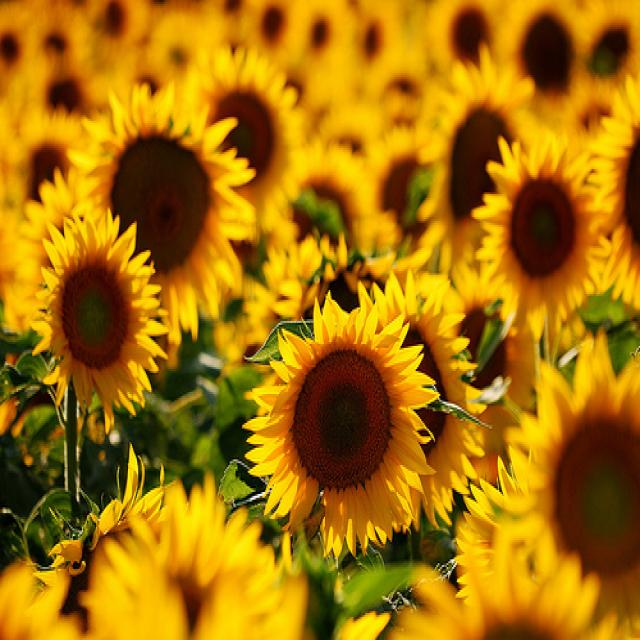sunflower: (253, 296, 438, 558), (74, 84, 252, 345), (519, 352, 640, 614), (29, 215, 161, 442), (424, 75, 542, 273), (489, 142, 609, 313), (196, 52, 311, 202), (508, 0, 598, 111)
